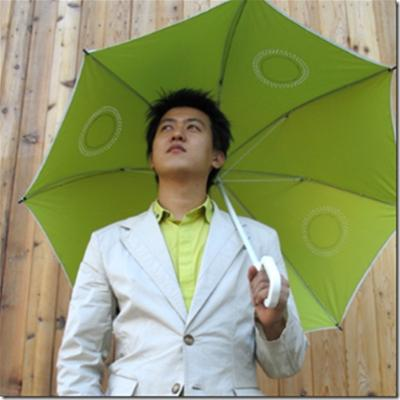person: (56, 88, 310, 399)
